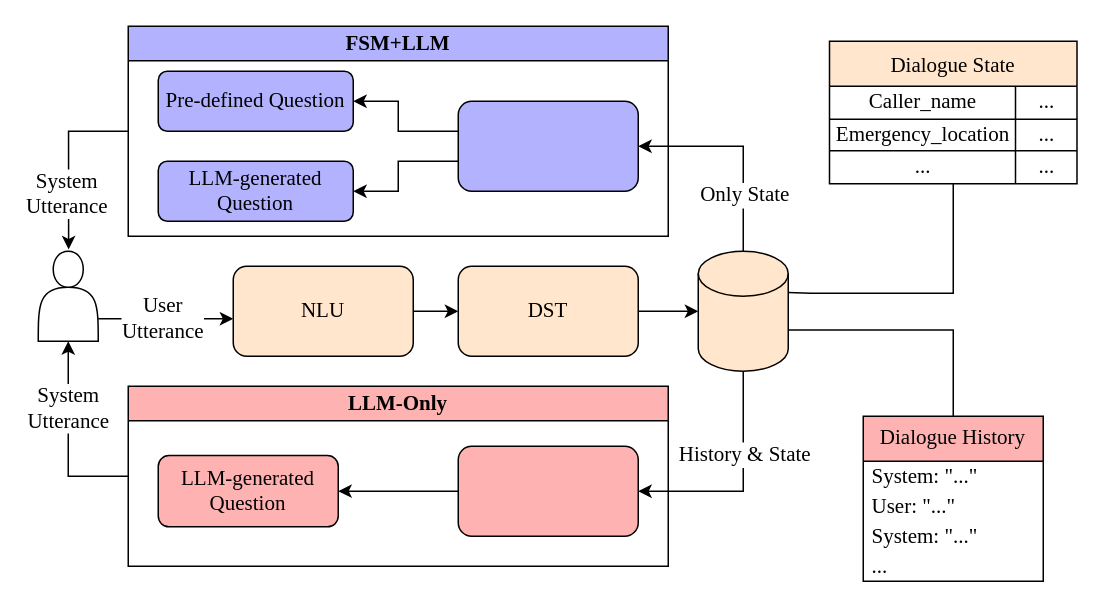
This 1104x608 diagram has some shape labels left out. Here are the shapes that lost their labels. From the top down, the centre of each, then its label:
(547,145): FSM
(67,295): User
(742,310): KB
(547,490): LLM
